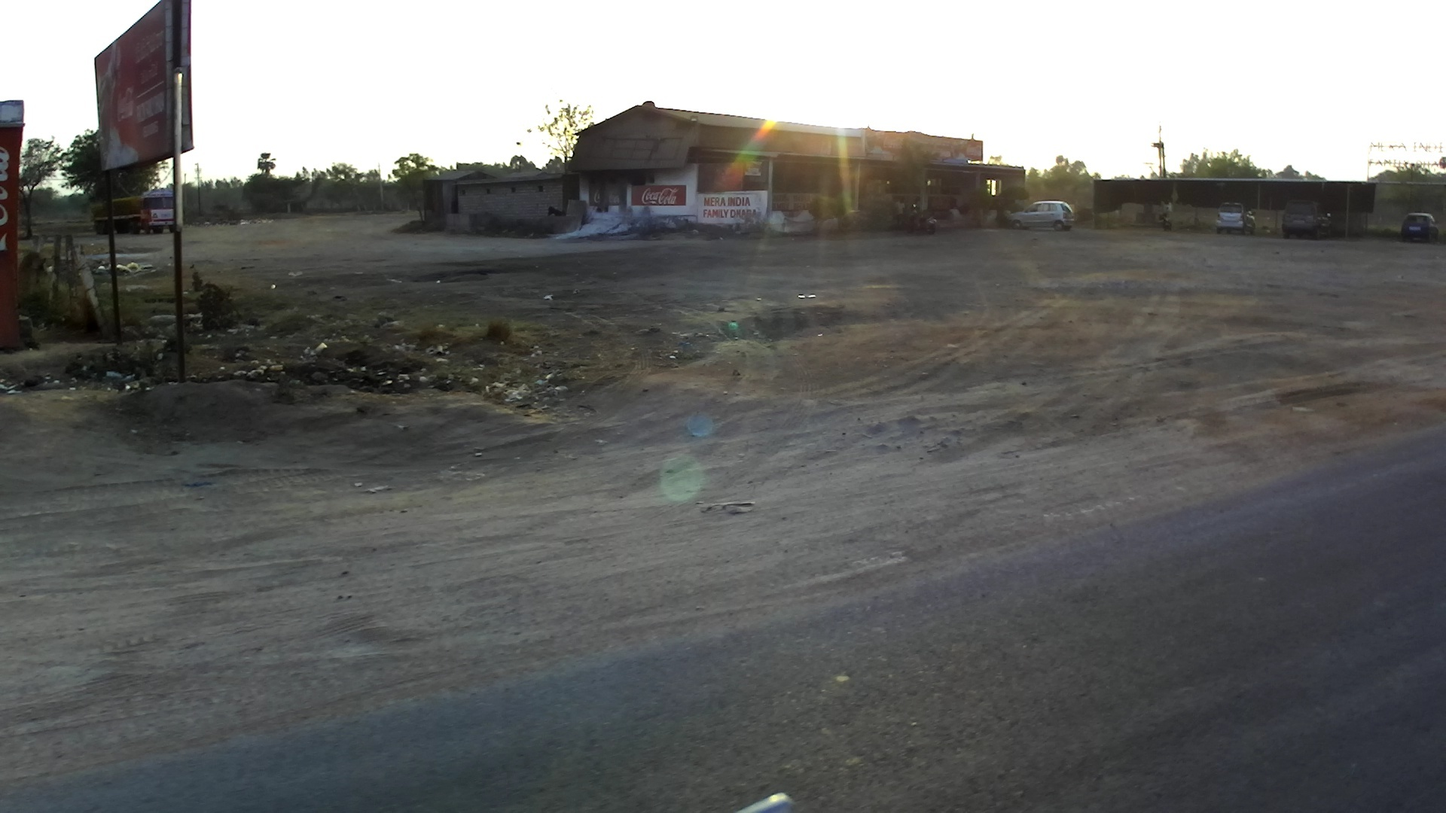car: (1280, 196, 1336, 242), (1006, 200, 1075, 232), (1215, 199, 1259, 236), (1400, 209, 1441, 245)
motorcycle: (905, 203, 938, 238), (1159, 209, 1175, 231)
person: (895, 194, 906, 233)
truck: (88, 193, 178, 239)
